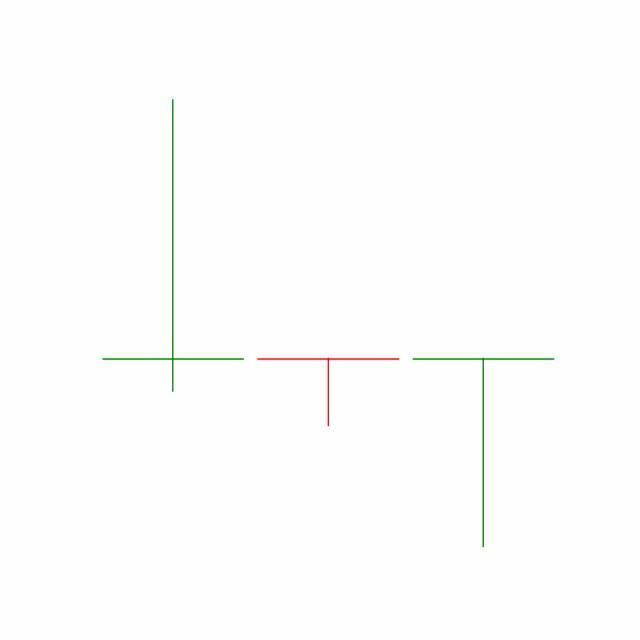Dragonfly Doji: (250, 357, 407, 428)
